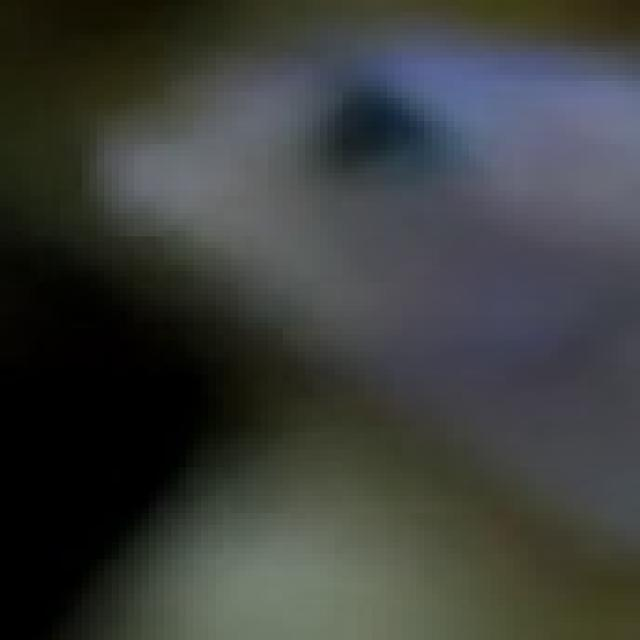fish: (0, 6, 633, 640)
